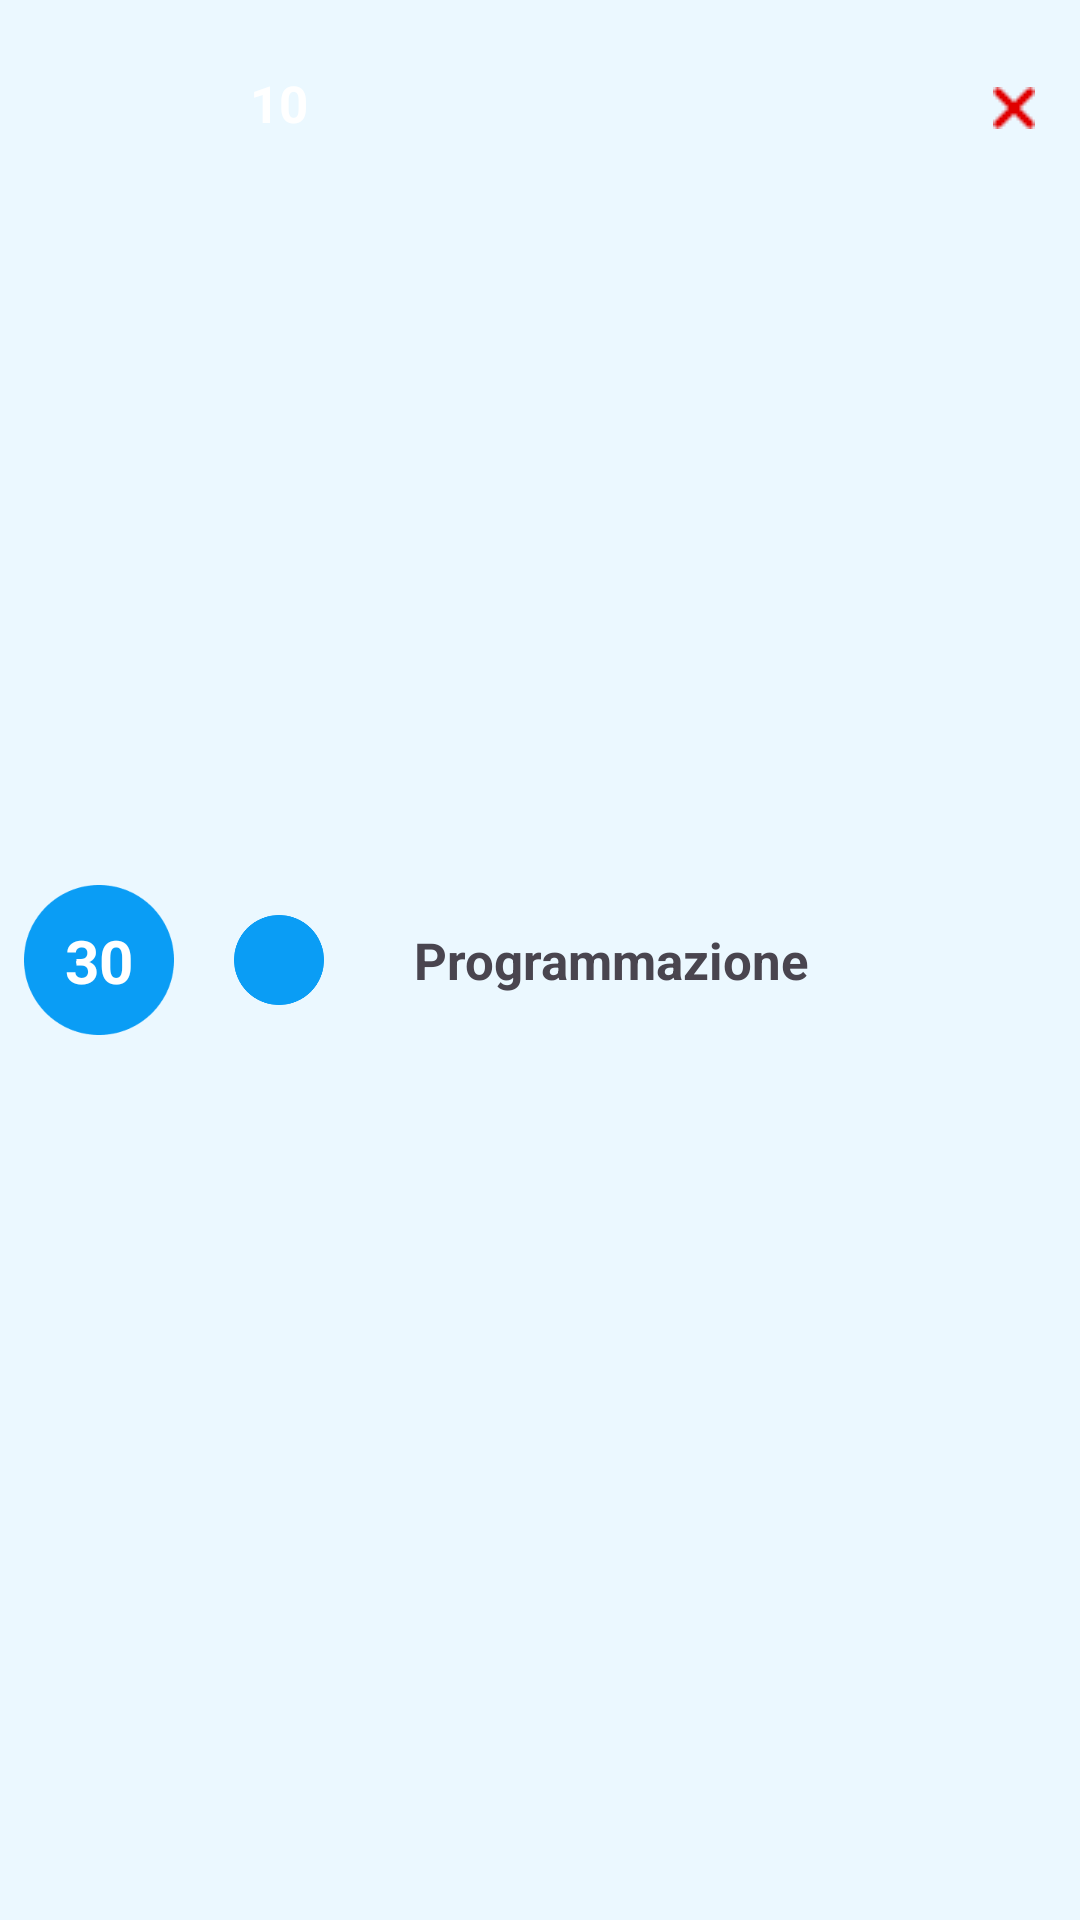

Locate icon controls on the screen. Image size 1080*1920, boxes as rect(x1, y1, x2, y2).
cross: rect(993, 87, 1035, 129)
